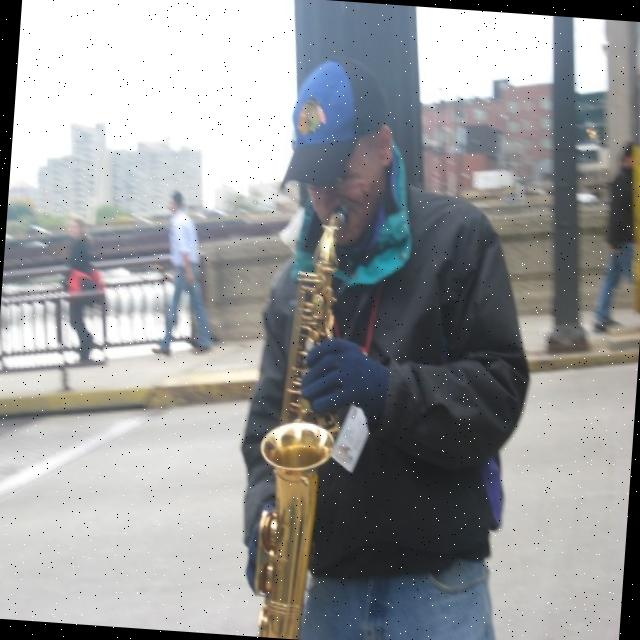saxophone: (243, 194, 354, 640)
